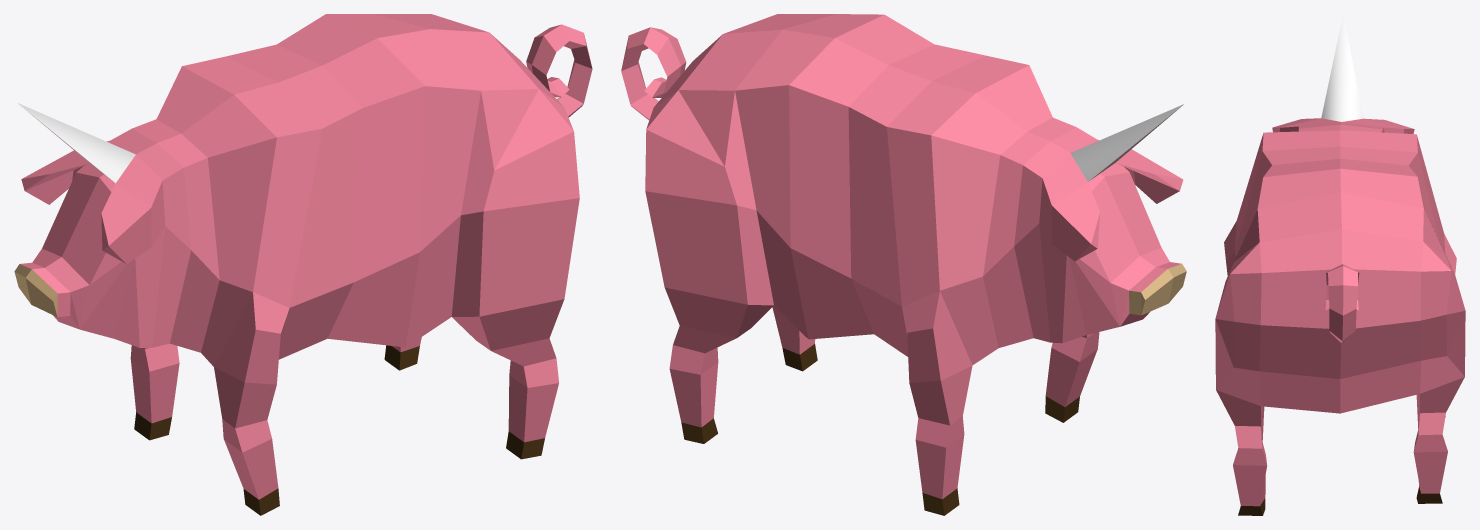
The model's file is pigWalking3.obj.
The picture shows the model from 3 angles, left to right: view 1: azimuth 30°, elevation 25°; view 2: azimuth 150°, elevation 25°; view 3: azimuth 270°, elevation 25°; orthographic projection. The views are drawn at different scales.
Parts seen in each view (by area): view 1: Pig_Cylinder; view 2: Pig_Cylinder; view 3: Pig_Cylinder.
Part boxes in pixels (<box>): Pig_Cylinder: <box>14,14,592,515</box>; Pig_Cylinder: <box>621,14,1186,515</box>; Pig_Cylinder: <box>1215,14,1465,515</box>.
Bounding box in the file's own units: 23.09 × 16.07 × 11.11.
